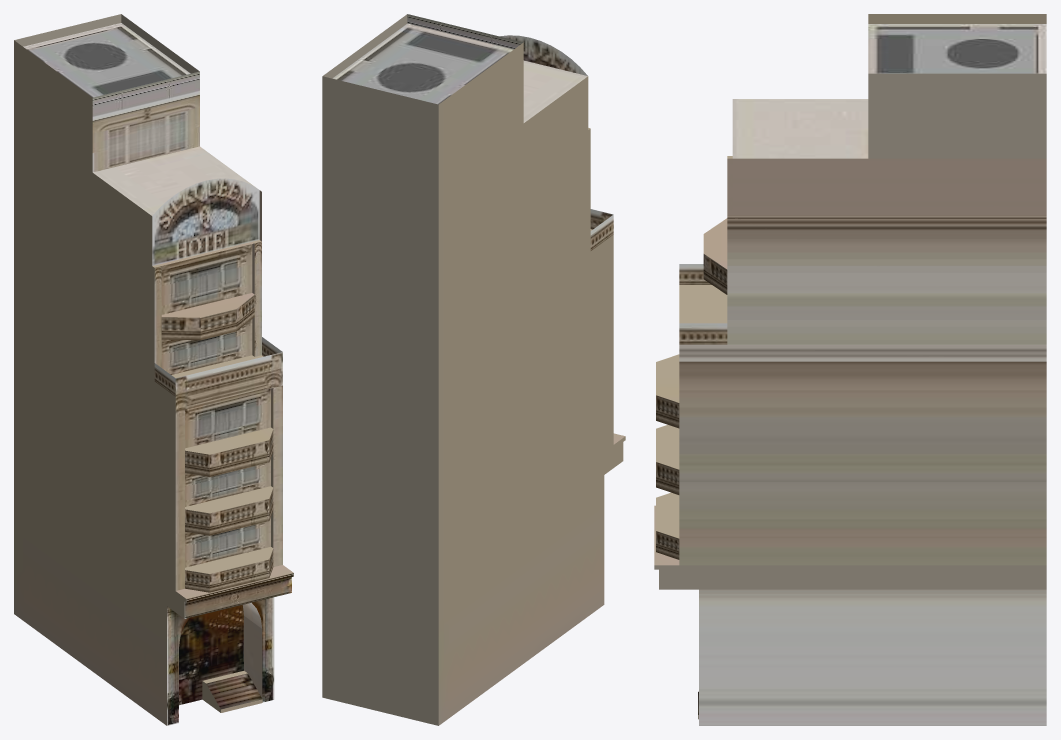
The picture shows the model from 3 angles, left to right: view 1: azimuth 30°, elevation 25°; view 2: azimuth 150°, elevation 25°; view 3: azimuth 270°, elevation 25°; orthographic projection. The views are drawn at different scales.
Parts seen in each view (by area): view 1: HN176___Silk_Queen_Hotel; view 2: HN176___Silk_Queen_Hotel; view 3: HN176___Silk_Queen_Hotel.
Part boxes in pixels (bbox=[...]): HN176___Silk_Queen_Hotel: bbox=[14, 14, 293, 725]; HN176___Silk_Queen_Hotel: bbox=[322, 14, 625, 725]; HN176___Silk_Queen_Hotel: bbox=[654, 14, 1046, 725].
Size of the model in its own units: 4.5 by 22.99 by 12.53.
Materials: 1 (1 with a texture image).
